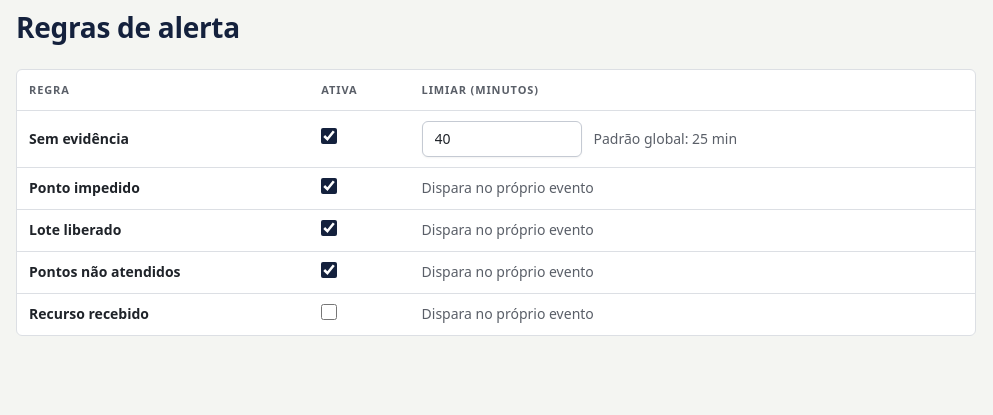
it: AlertRulesPage › clearing an override commits null (use the global default)
Expected: the text "Padrão global: 25 min" is shown, [594,128,737,148]
Clear the number field named "Sem evidência — Limiar (minutos)" at (502,138), box [422,120,582,156]
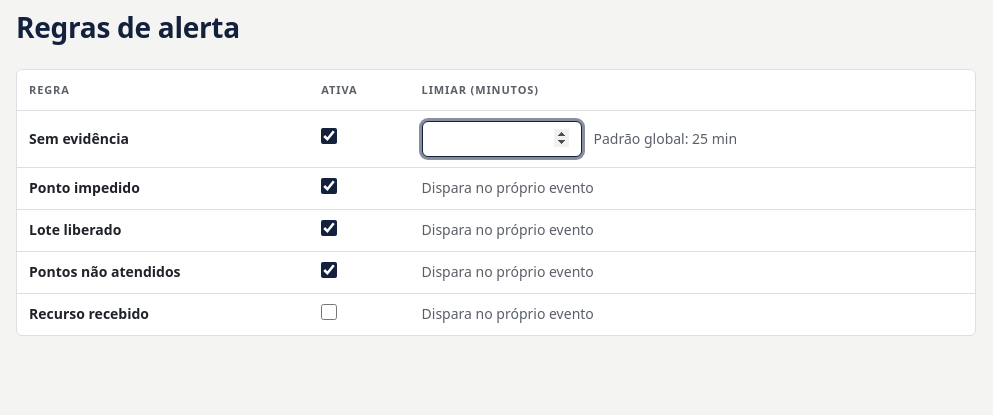
Press Tab
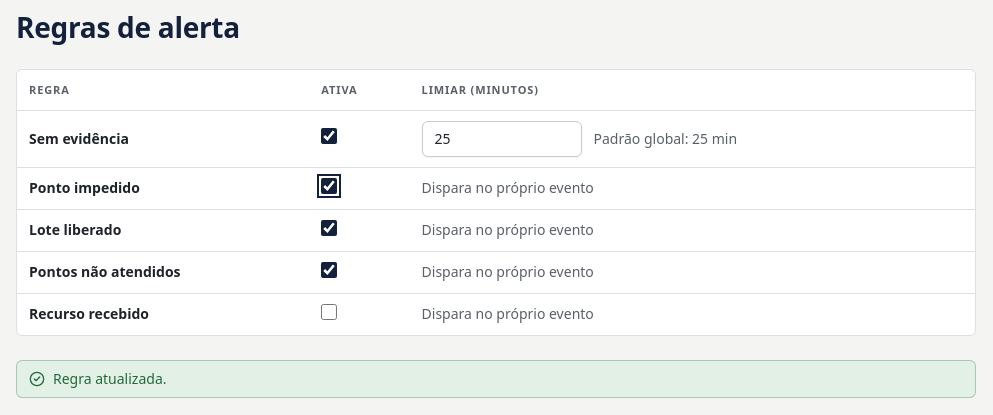
Now the number field named "Sem evidência — Limiar (minutos)" holds "25", box [422,120,582,156]
